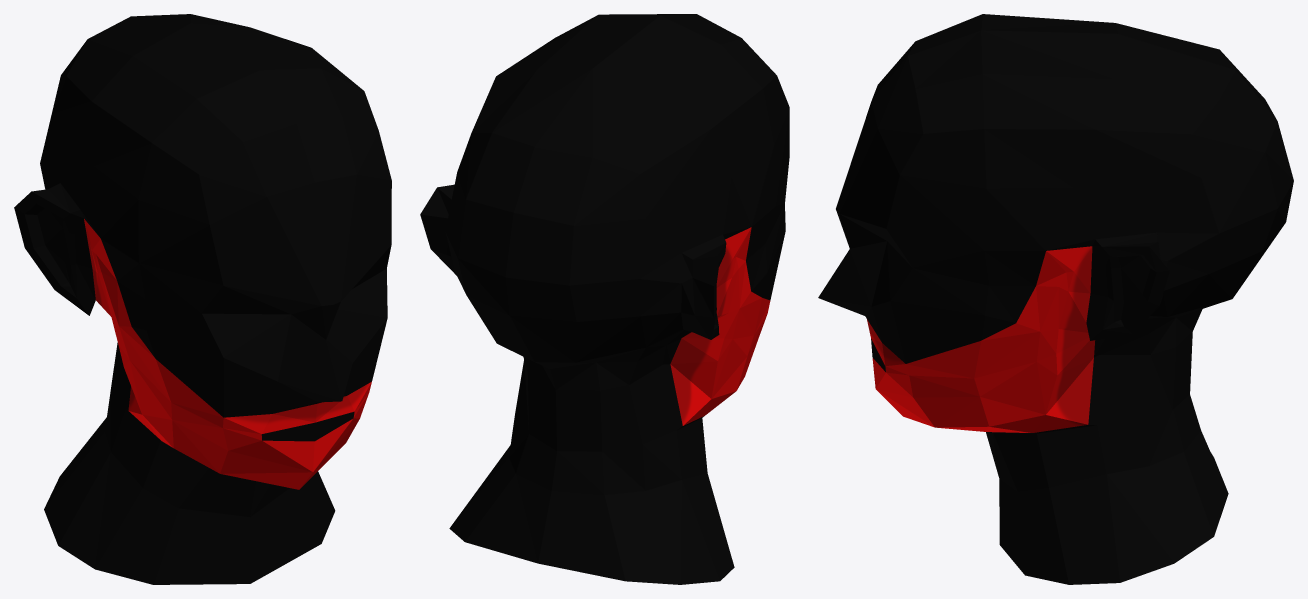
The model's file is headdy.obj.
3 renders of one model, left to right at view 1: azimuth 30°, elevation 25°; view 2: azimuth 150°, elevation 25°; view 3: azimuth 270°, elevation 25°, orthographic. The views are drawn at different scales.
Visible parts, largest first — view 1: Head; view 2: Head; view 3: Head.
Part boxes in pixels (x1,y1,x2,y2): Head: (14, 14, 391, 584); Head: (420, 14, 789, 584); Head: (818, 14, 1293, 584).
Size of the model in its own units: 0.589 by 0.9754 by 0.8177.
1 material, 1 textured.
